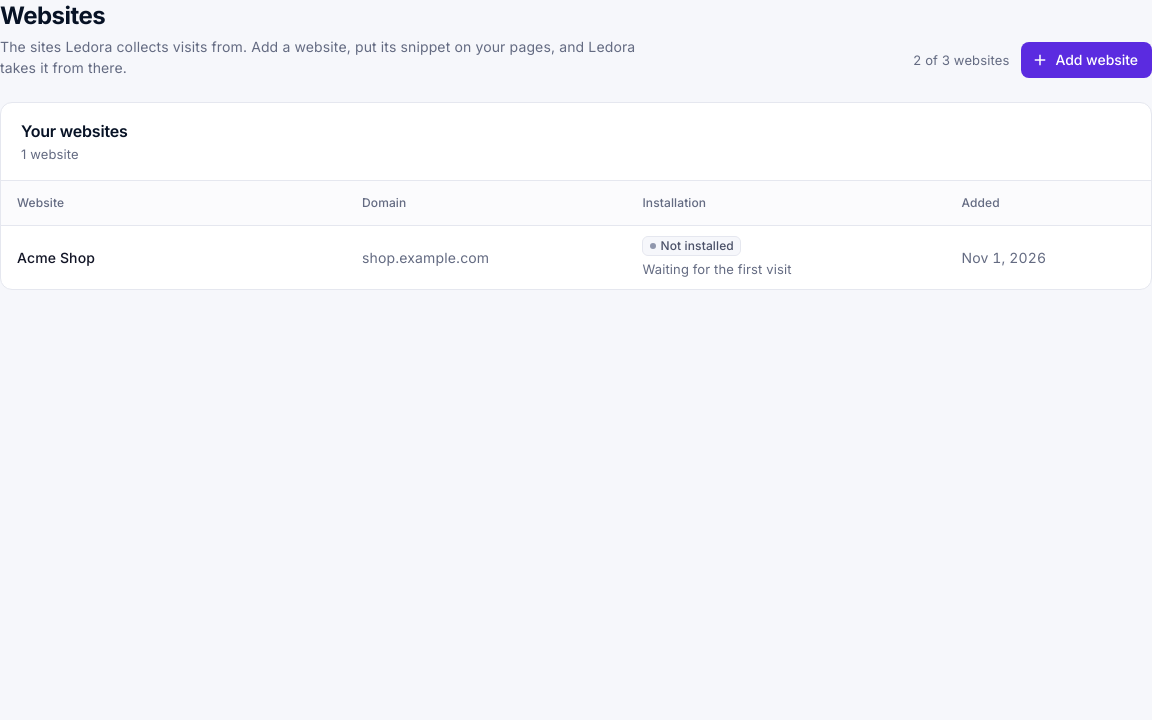
Test: adding a website › shows the plan-limit message and current usage when the server refuses
Click the button "Add website" at [1087, 60], box [1021, 42, 1151, 78]
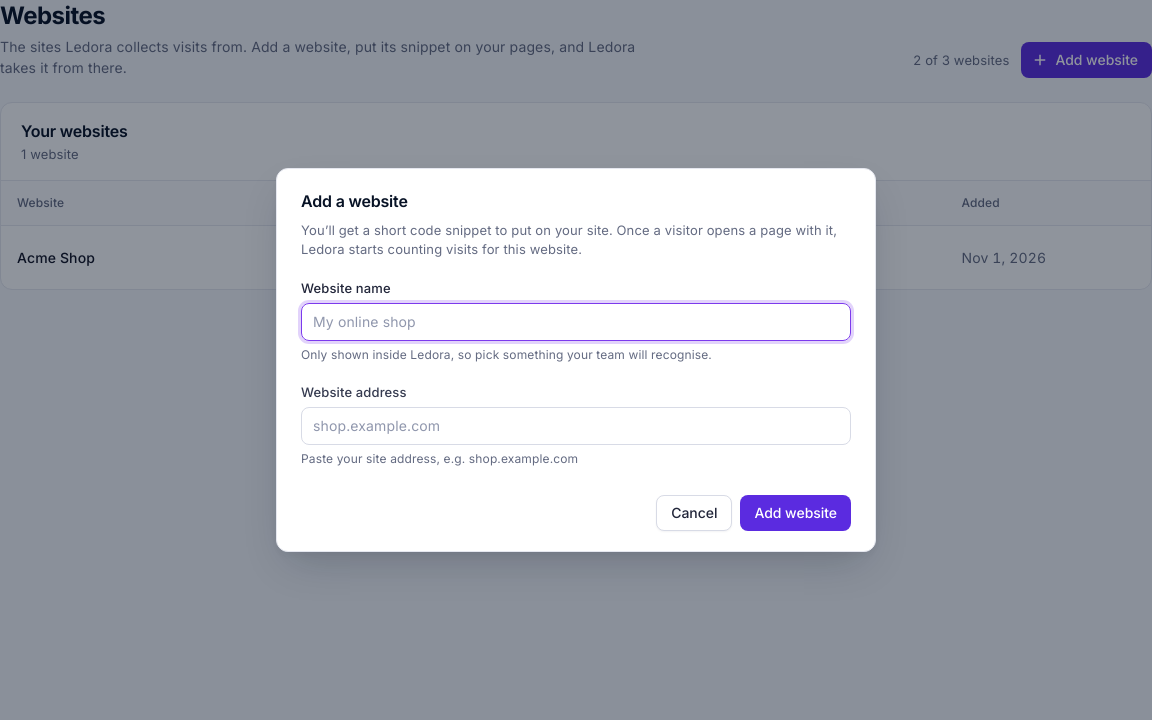
Type "Blog" into the field labelled "Website name" at [576, 322], box [301, 303, 851, 341]
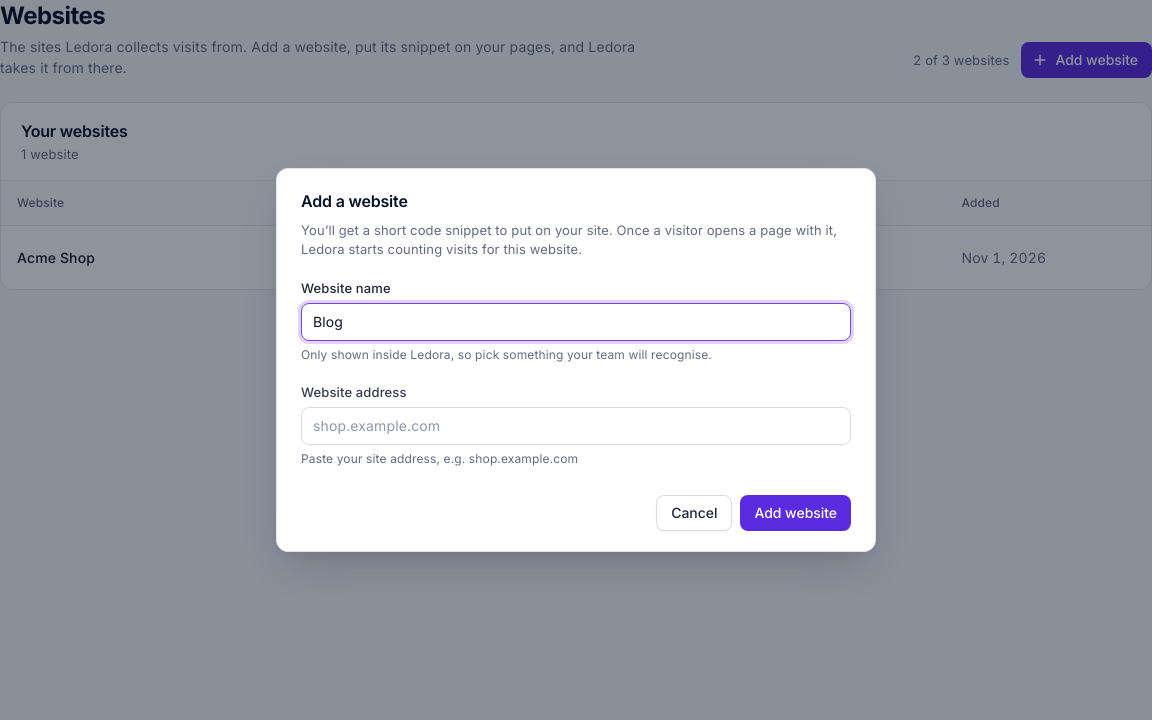
Type "https://blog.example.com/" into the field labelled "Website address" at [576, 426], box [301, 407, 851, 445]
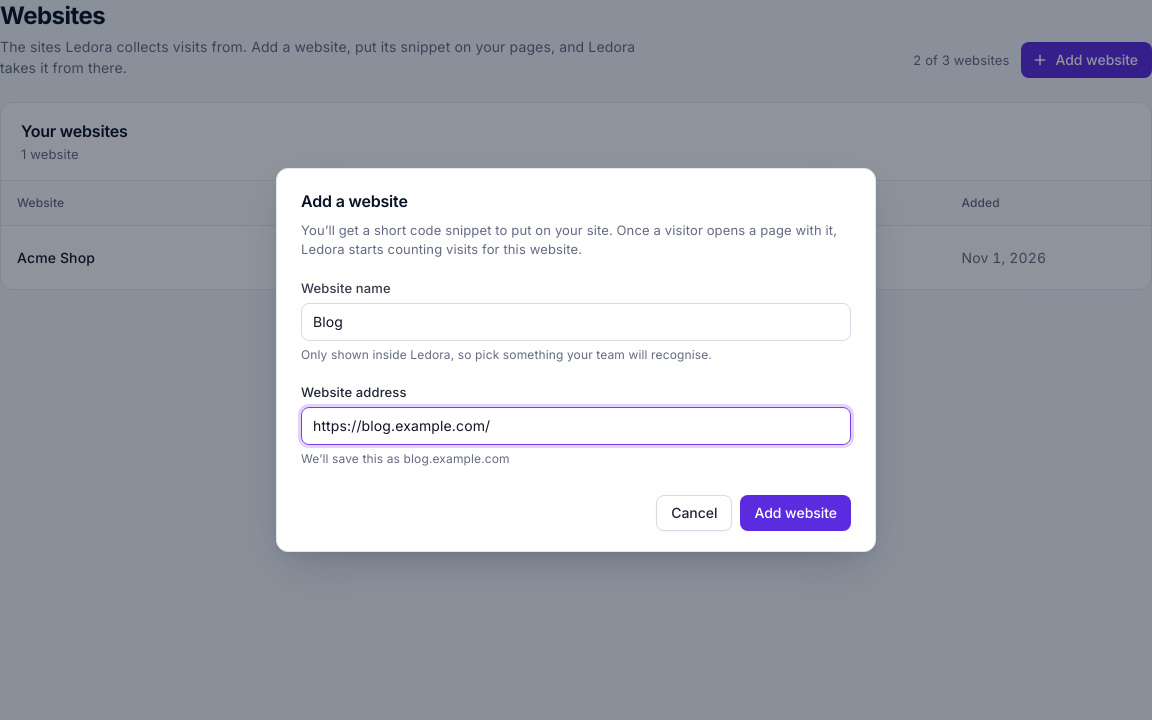
Click the button "Add website" at [796, 513], box [740, 495, 851, 531]
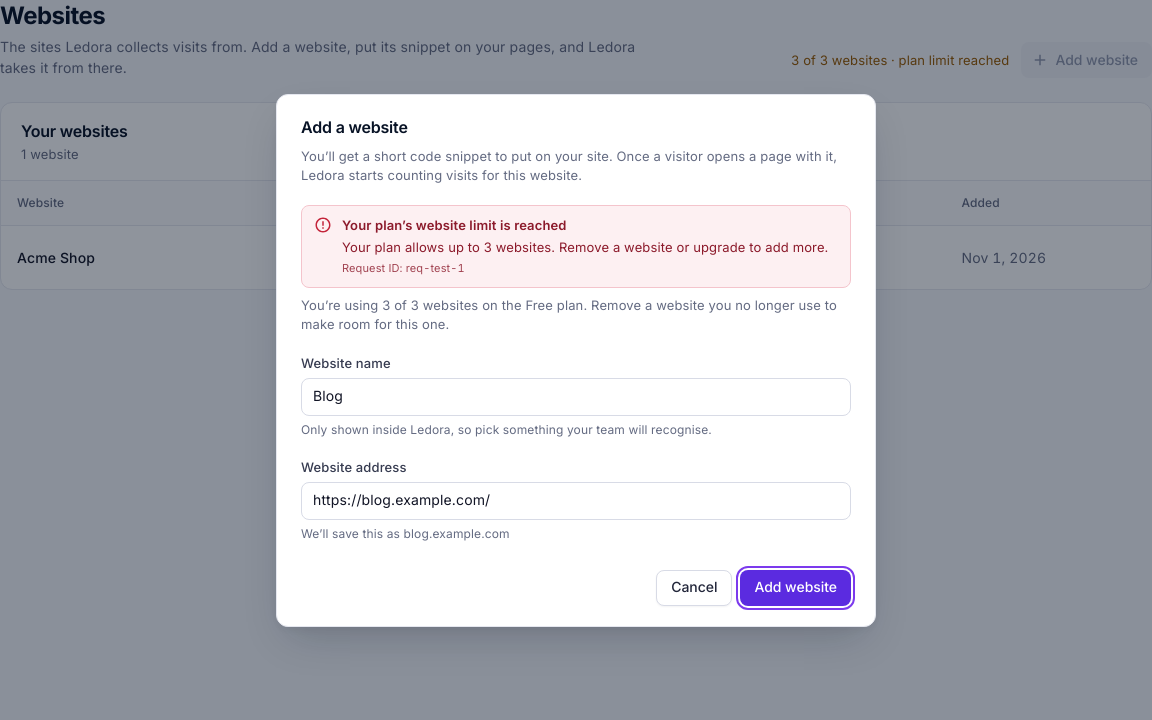
Check: the message shows "Your plan’s website limit is reached", box [342, 216, 566, 232]
Check: the message shows "Your plan allows up to 3 websites.", box [342, 238, 828, 254]
Check: the text "You’re using 3 of 3 websites on the Free plan." is shown, box [301, 296, 587, 312]
